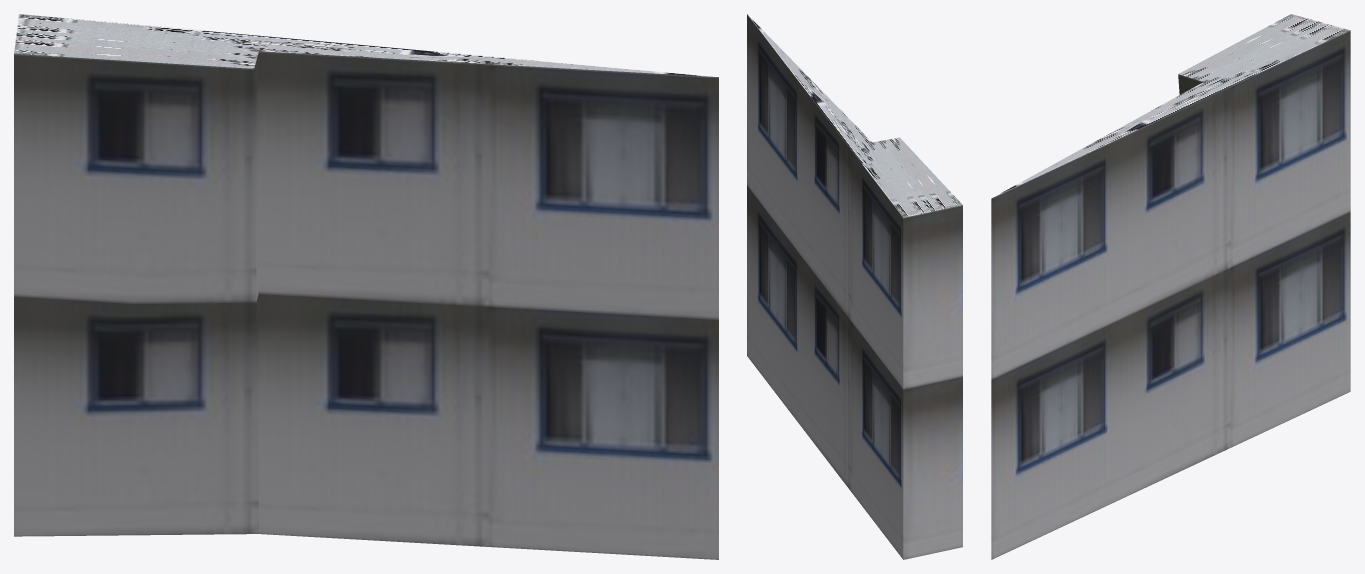
The model's file is ResTex__2182.fbx.
3 views of the same model, side by side, from view 1: azimuth 30°, elevation 25°; view 2: azimuth 150°, elevation 25°; view 3: azimuth 270°, elevation 25° (orthographic). The views are drawn at different scales.
Parts seen in each view (by area): view 1: CityEngineMaterial_9_m, CityEngineMaterial_8_m; view 2: CityEngineMaterial_9_m, CityEngineMaterial_8_m; view 3: CityEngineMaterial_9_m, CityEngineMaterial_8_m.
Part boxes in pixels (x1,y1,x2,y2): CityEngineMaterial_9_m: [14, 51, 718, 559]; CityEngineMaterial_8_m: [14, 14, 714, 76]; CityEngineMaterial_9_m: [747, 14, 962, 559]; CityEngineMaterial_8_m: [748, 15, 962, 217]; CityEngineMaterial_9_m: [991, 30, 1350, 559]; CityEngineMaterial_8_m: [993, 14, 1349, 197].
Size of the model in its own units: 6.56 by 6 by 5.4.
Materials: 2 (2 with a texture image).
